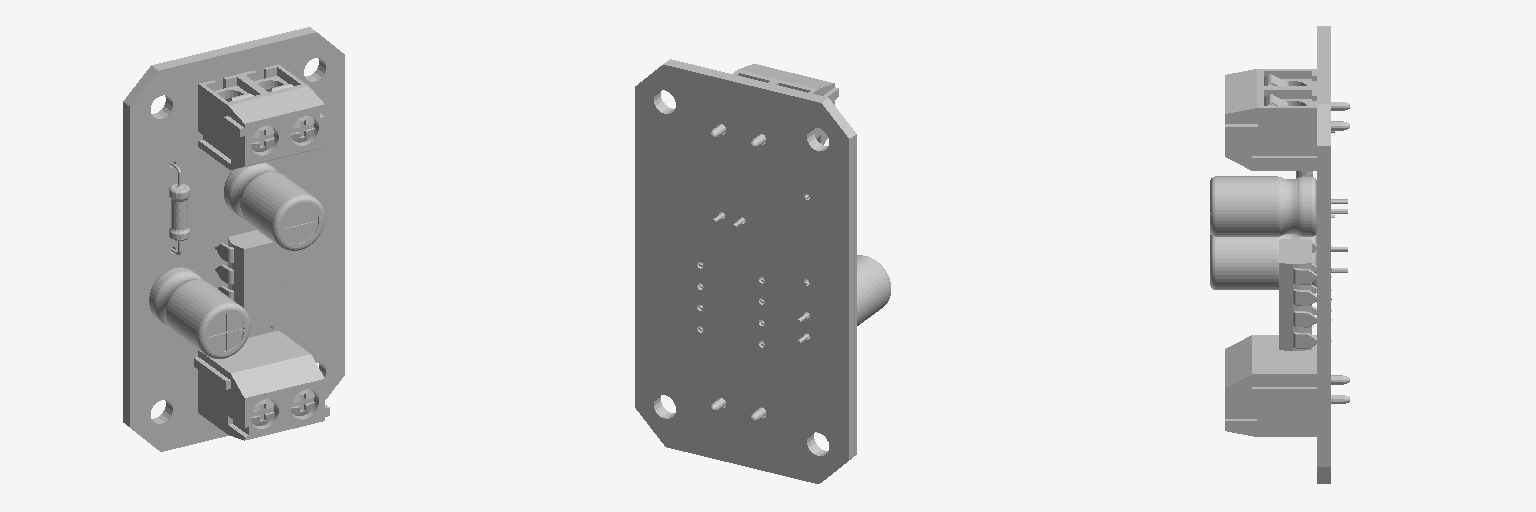
Rendered from Tic Tic Generator v4.obj.
3 views of the same model, side by side, from view 1: azimuth 30°, elevation 25°; view 2: azimuth 150°, elevation 25°; view 3: azimuth 270°, elevation 25° (orthographic).
Visible parts, largest first — view 1: Solid1, Solid1:2, Solid1:1, Solid1:6, Solid1:5, Solid1:4; view 2: Solid1, Solid1:6, Solid1:1; view 3: Solid1:2, Solid1:1, Solid1:5, Solid1, Solid1:6, Solid1:4.
Boxes of the visible parts, x1,y1,x2,y2 form: Solid1: [123, 27, 344, 451]; Solid1:2: [194, 331, 329, 440]; Solid1:1: [198, 64, 324, 169]; Solid1:6: [149, 267, 250, 358]; Solid1:5: [224, 162, 324, 250]; Solid1:4: [228, 230, 291, 334]; Solid1: [635, 59, 856, 483]; Solid1:6: [797, 255, 890, 344]; Solid1:1: [733, 64, 838, 144]; Solid1:2: [1225, 335, 1316, 436]; Solid1:1: [1225, 69, 1316, 170]; Solid1:5: [1210, 176, 1347, 236]; Solid1: [1317, 26, 1330, 483]; Solid1:6: [1210, 233, 1347, 289]; Solid1:4: [1279, 238, 1311, 350].
Bounding box in the file's own units: 26.65 × 45.39 × 15.06.